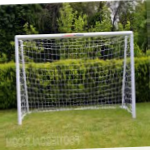goals: (12, 28, 138, 125)
